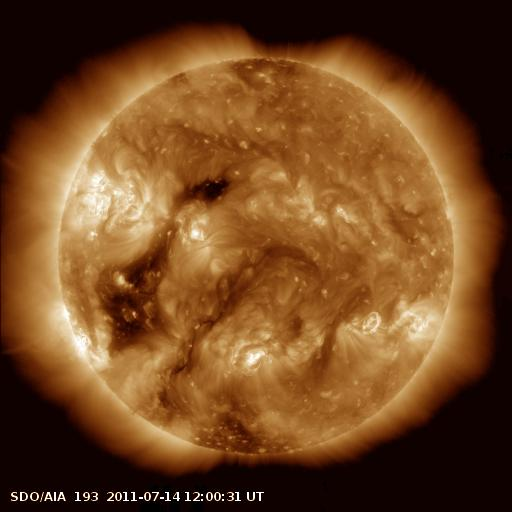coronal_hole: (98, 219, 178, 354), (192, 413, 291, 458), (169, 177, 232, 214)
